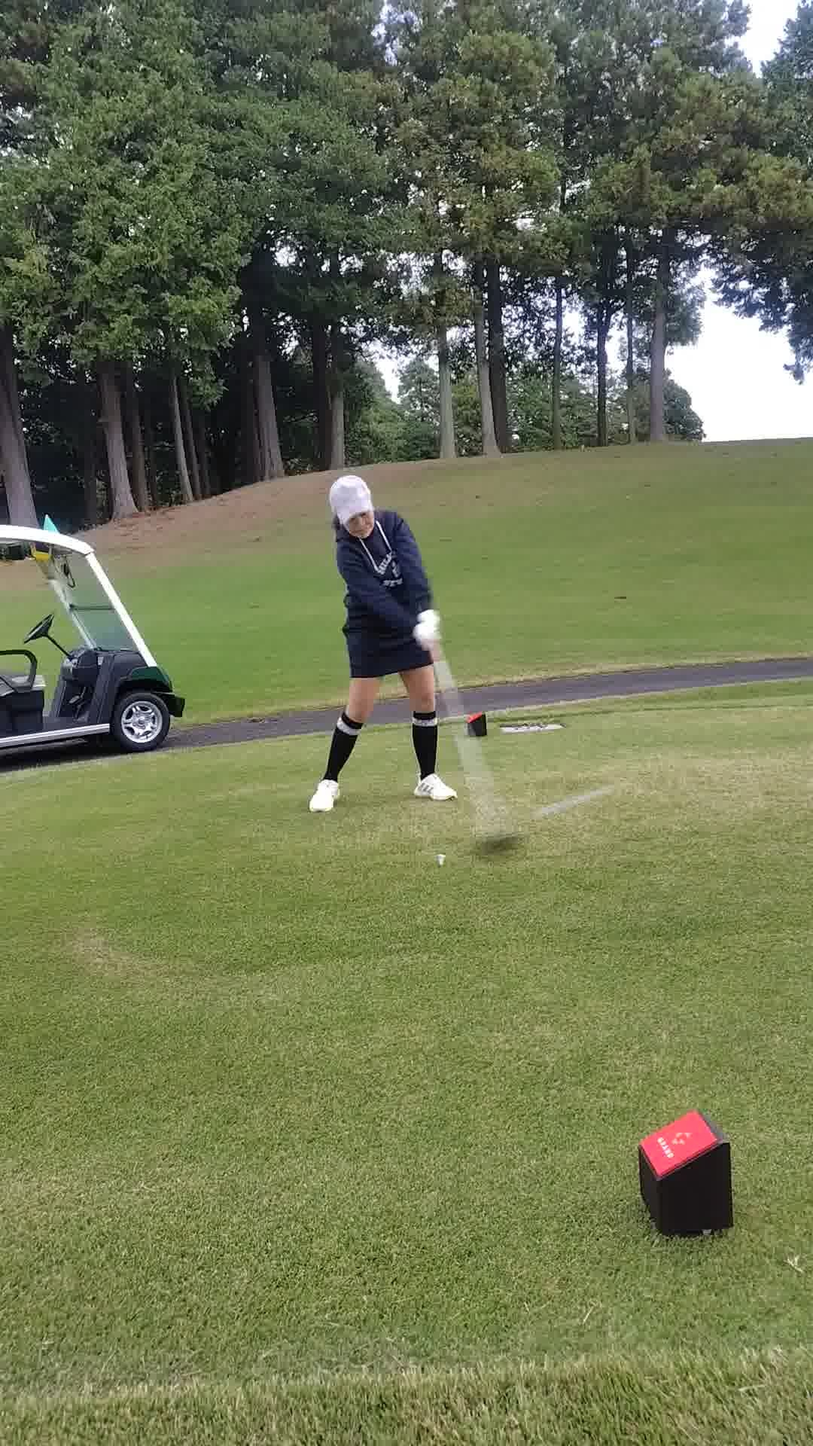clubhead: (393, 793, 613, 895)
